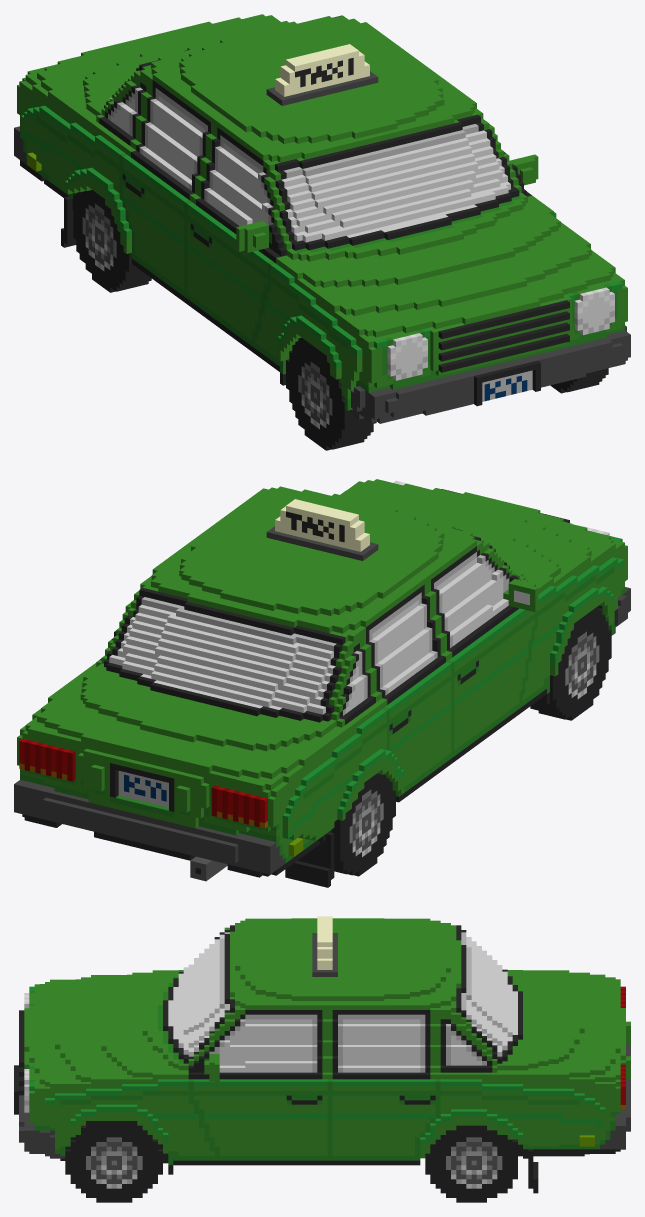
File: npc-car-taxi.obj
3 renders of one model, top to bottom at view 1: azimuth 30°, elevation 25°; view 2: azimuth 150°, elevation 25°; view 3: azimuth 270°, elevation 25°, orthographic. The views are drawn at different scales.
Parts seen in each view (by area): view 1: VAZ 2107; view 2: VAZ 2107; view 3: VAZ 2107.
Part boxes in pixels (<box>): VAZ 2107: <box>14,14,630,450</box>; VAZ 2107: <box>14,479,630,887</box>; VAZ 2107: <box>14,916,630,1202</box>.
Bounding box in the file's own units: 5.6 × 4.7 × 12.
Materials: 1 (1 with a texture image).
